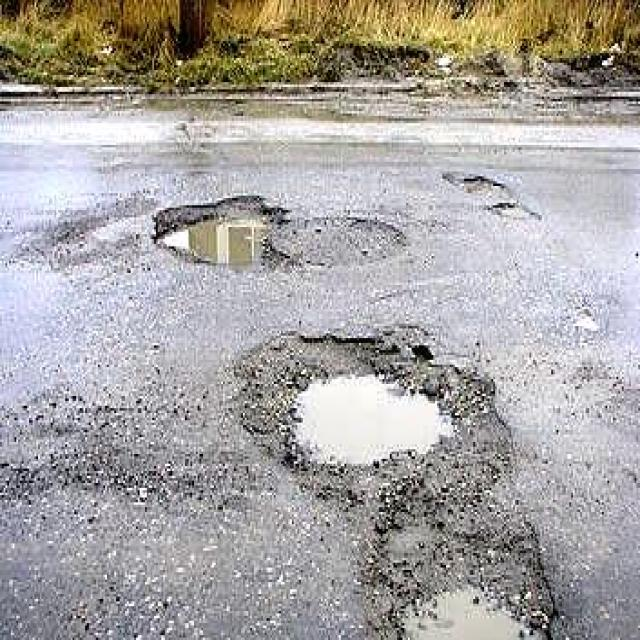pothole: (236, 333, 508, 483), (389, 526, 536, 640), (144, 187, 293, 279), (459, 168, 540, 228)
